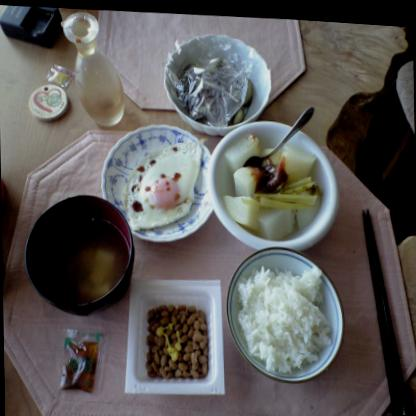miso soup: (27, 187, 124, 306)
rice ball: (228, 238, 337, 386)
